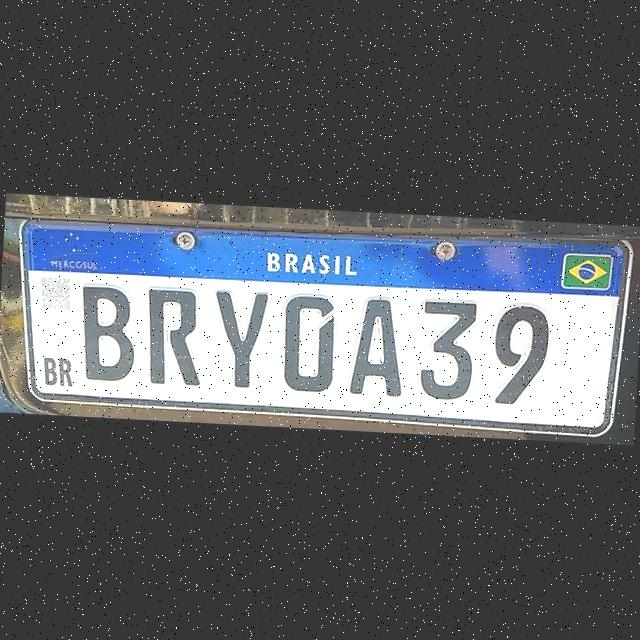Caractere: (487, 300, 554, 409), (74, 281, 140, 385), (142, 284, 204, 389), (416, 294, 476, 402), (348, 293, 409, 399), (278, 291, 339, 396), (211, 286, 271, 392)
Placa: (9, 213, 630, 439)
